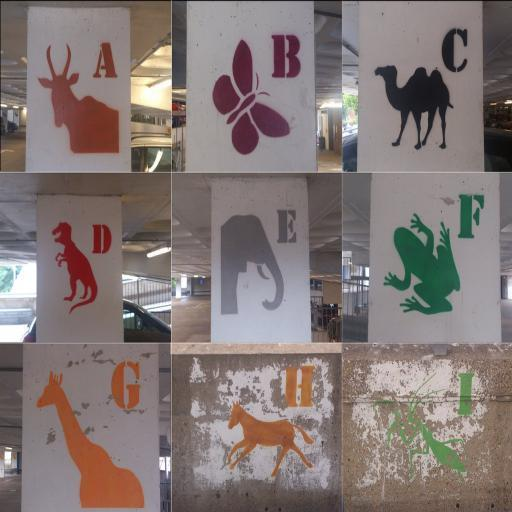horse: (226, 398, 314, 482)
